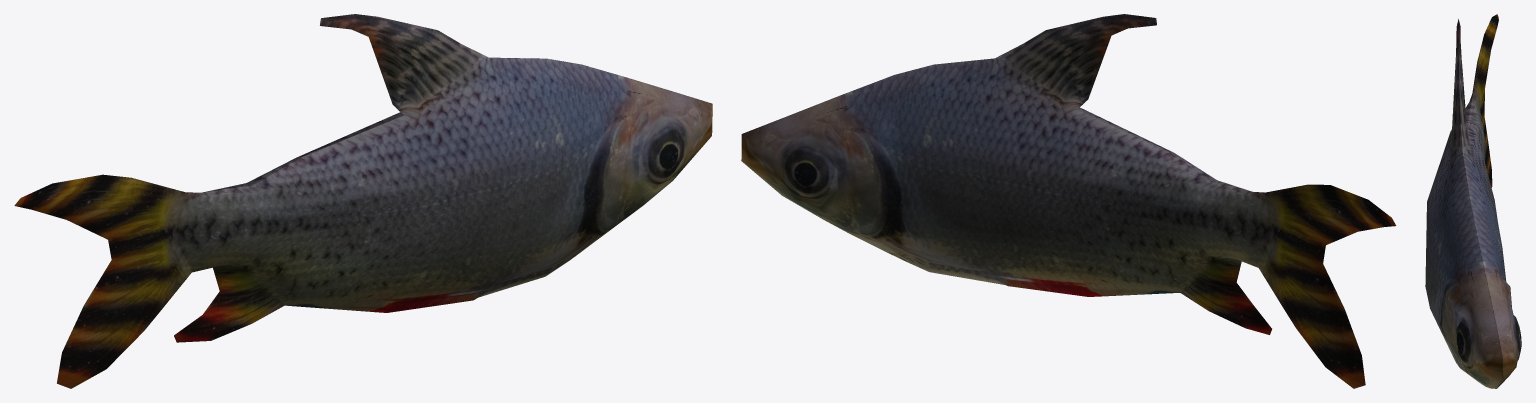
Rendered from Anim_Flagtail.glb.
3 renders of one model, left to right at view 1: azimuth 30°, elevation 25°; view 2: azimuth 150°, elevation 25°; view 3: azimuth 270°, elevation 25°, orthographic. The views are drawn at different scales.
Parts seen in each view (by area): view 1: SK_Flagtail_LOD1.1 (Copy); view 2: SK_Flagtail_LOD1.1 (Copy); view 3: SK_Flagtail_LOD1.1 (Copy).
Part boxes in pixels (x1=…): SK_Flagtail_LOD1.1 (Copy): x1=14, y1=14, x2=712, y2=388; SK_Flagtail_LOD1.1 (Copy): x1=741, y1=14, x2=1396, y2=388; SK_Flagtail_LOD1.1 (Copy): x1=1425, y1=14, x2=1521, y2=388.
Size of the model in its own units: 44.02 by 19.7 by 6.36.
Materials: 1 (1 with a texture image).
